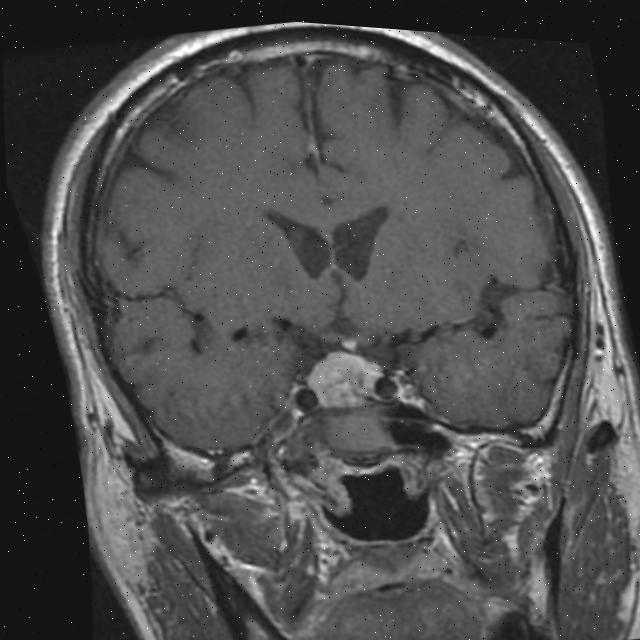Pituitary: (299, 341, 392, 417)
